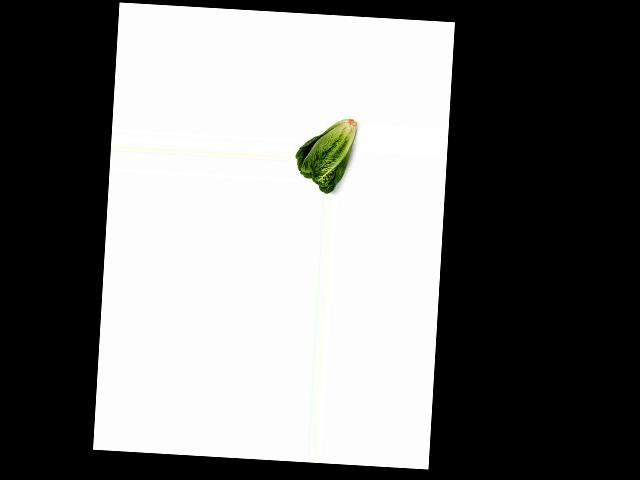lettuce: (294, 114, 358, 194)
